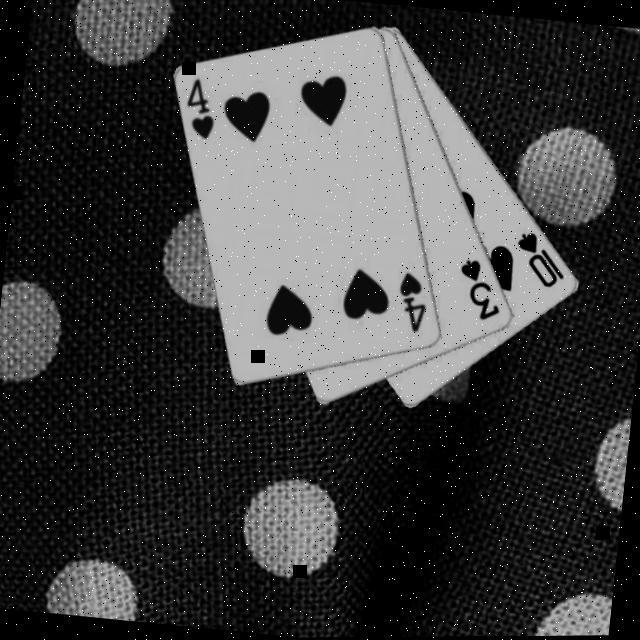10S: (512, 226, 574, 291)
3S: (454, 254, 511, 324)
4H: (181, 73, 224, 142), (395, 267, 436, 334)
